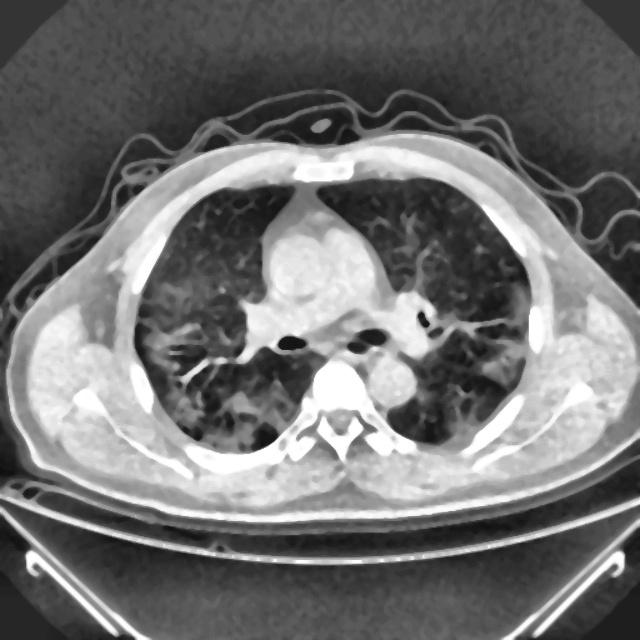covid: (3, 98, 638, 535)
